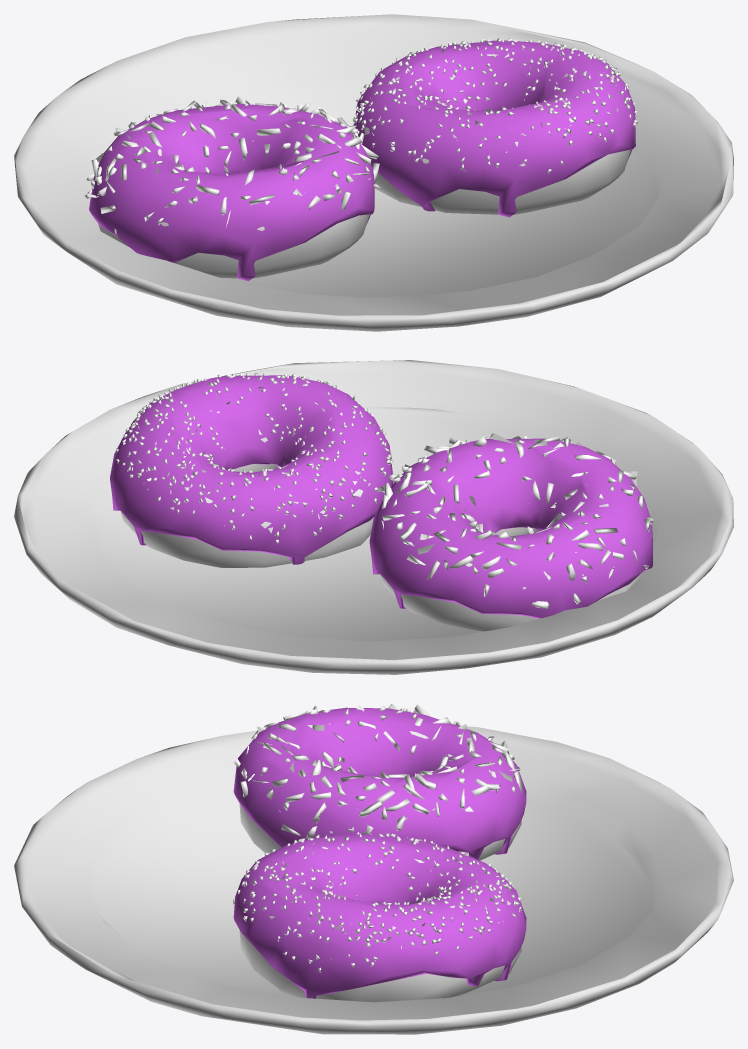
The model's file is donut.glb.
The picture shows the model from 3 angles, top to bottom: view 1: azimuth 30°, elevation 25°; view 2: azimuth 150°, elevation 25°; view 3: azimuth 270°, elevation 25°; orthographic projection.
Parts seen in each view (by area): view 1: Circle; view 2: Circle; view 3: Circle.
Part boxes in pixels (x1,y1,x2,y2): Circle: [14, 14, 733, 331]; Circle: [14, 360, 733, 674]; Circle: [14, 703, 733, 1034].
Bounding box in the file's own units: 0.9254 × 0.1716 × 0.926.
